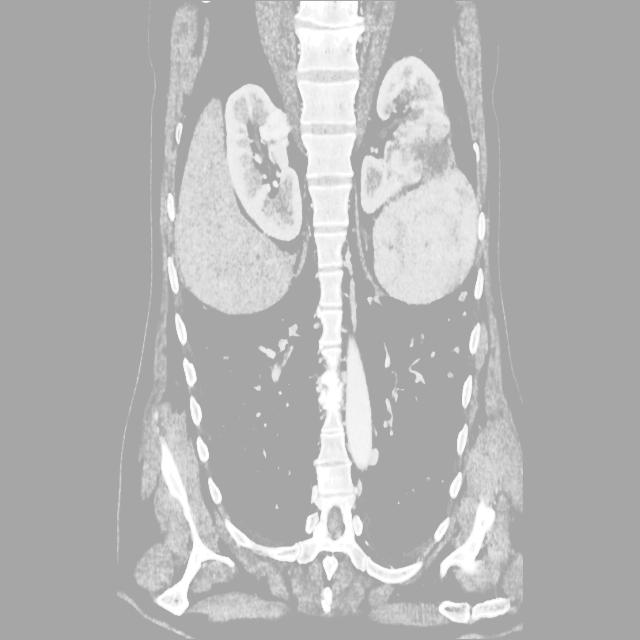TUMOR: (112, 71, 640, 404)
